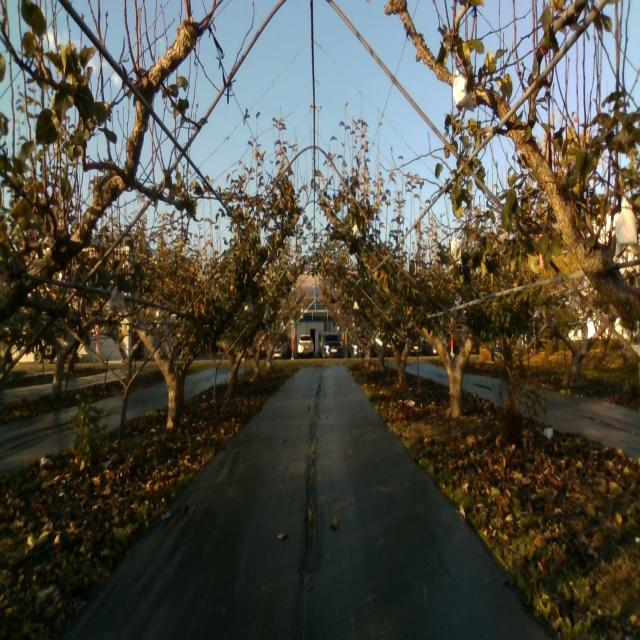pearbags: (616, 199, 637, 258), (452, 67, 474, 112), (109, 286, 126, 315), (450, 236, 462, 266)
